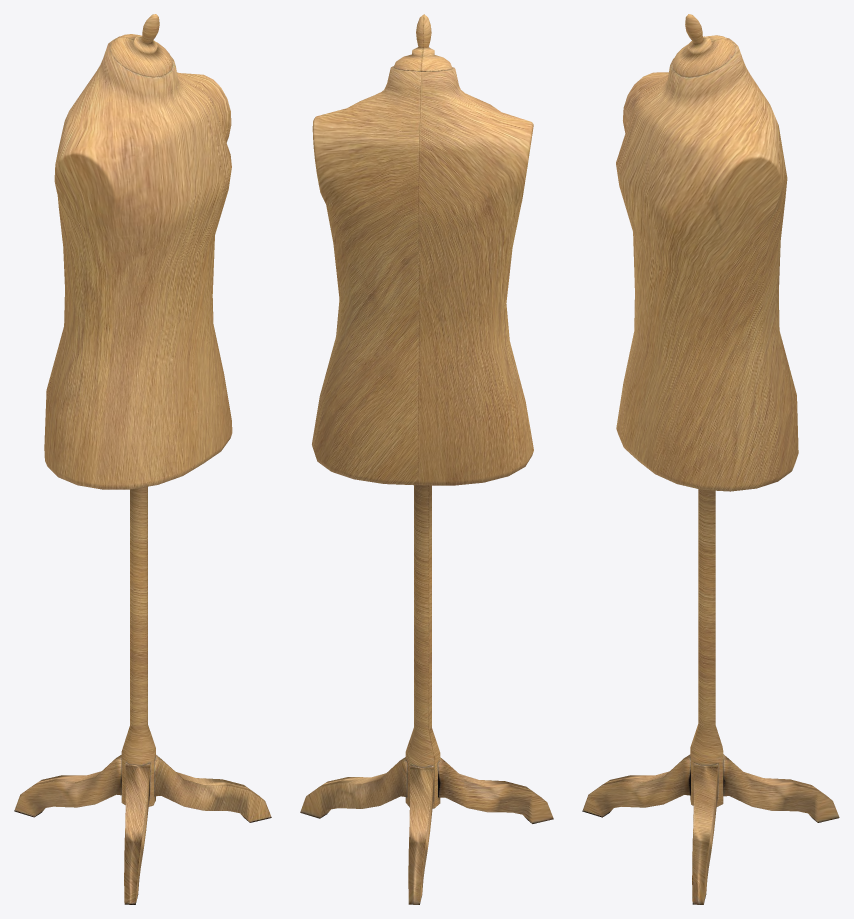
The model's file is Manocanh (0.09, 1.5, 0.3).glb.
3 renders of one model, left to right at view 1: azimuth 30°, elevation 25°; view 2: azimuth 150°, elevation 25°; view 3: azimuth 270°, elevation 25°, orthographic.
Parts seen in each view (by area): view 1: Dress.013; view 2: Dress.013; view 3: Dress.013.
Part boxes in pixels (x1,y1,x2,y2): Dress.013: (14,14,271,904); Dress.013: (300,14,553,904); Dress.013: (582,14,839,904).
Bounding box in the file's own units: 0.5122 × 1.85 × 0.5177.
1 material, 1 textured.
